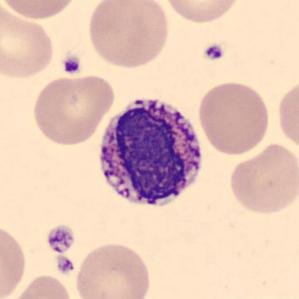Basophil: (92, 89, 208, 217)
Platelets: (44, 223, 77, 255), (201, 41, 226, 64), (60, 53, 83, 76), (54, 254, 76, 276)
RBC: (30, 72, 117, 147), (195, 78, 273, 157), (84, 0, 172, 70), (226, 140, 298, 216), (72, 239, 153, 299), (0, 3, 57, 82), (0, 220, 30, 299), (160, 0, 242, 25), (5, 272, 76, 299), (275, 77, 298, 154), (0, 0, 81, 21)
